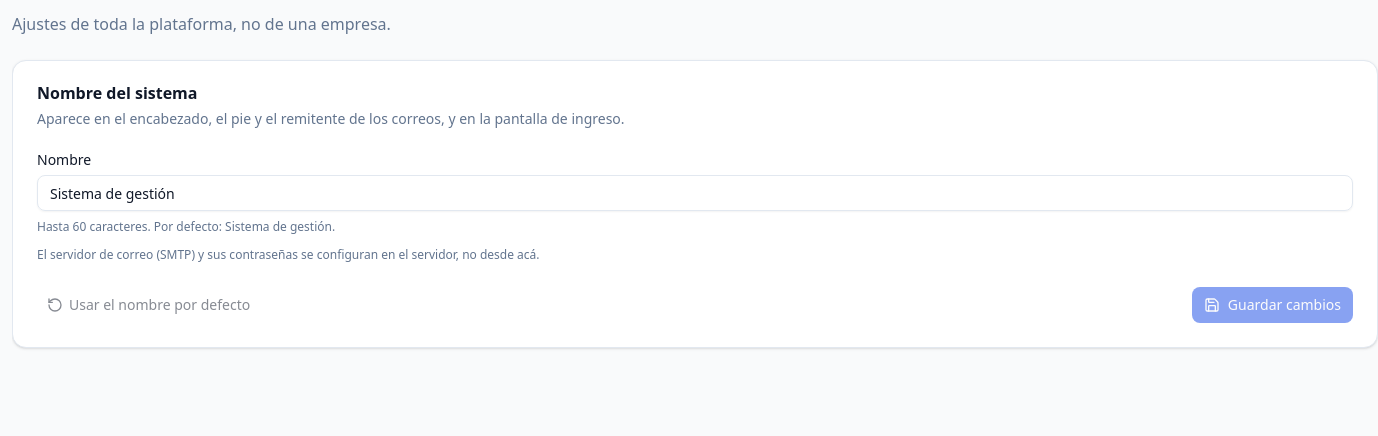
Sistema › guarda el nombre nuevo
The image size is (1378, 436).
Replace the text in the field labelled "Nombre" with "  Mi ERP ": [695, 193] box x1=37 y1=175 x2=1353 y2=211
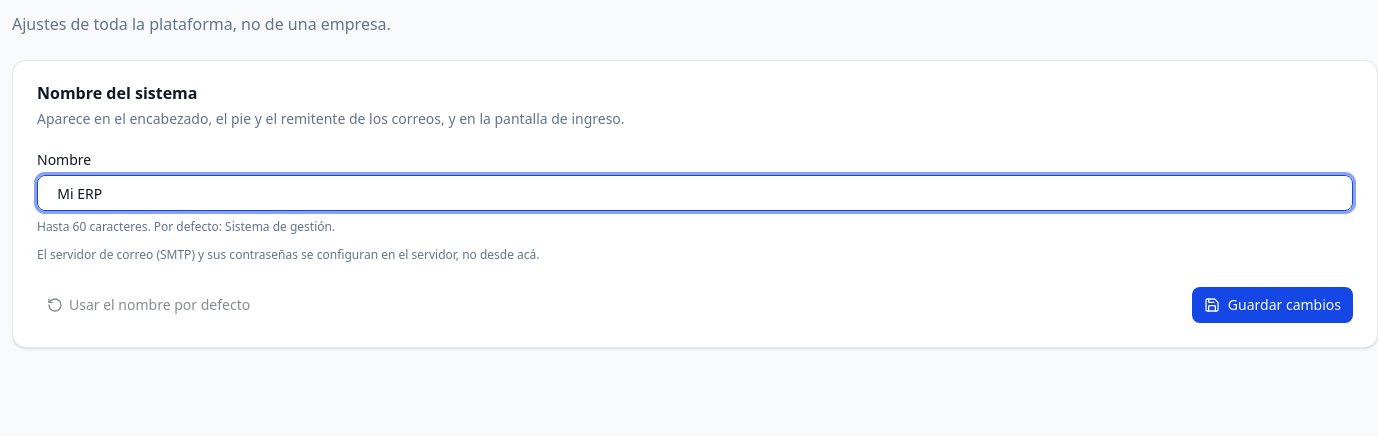
Click the button "Guardar cambios": [1272, 305] box x1=1192 y1=287 x2=1353 y2=323
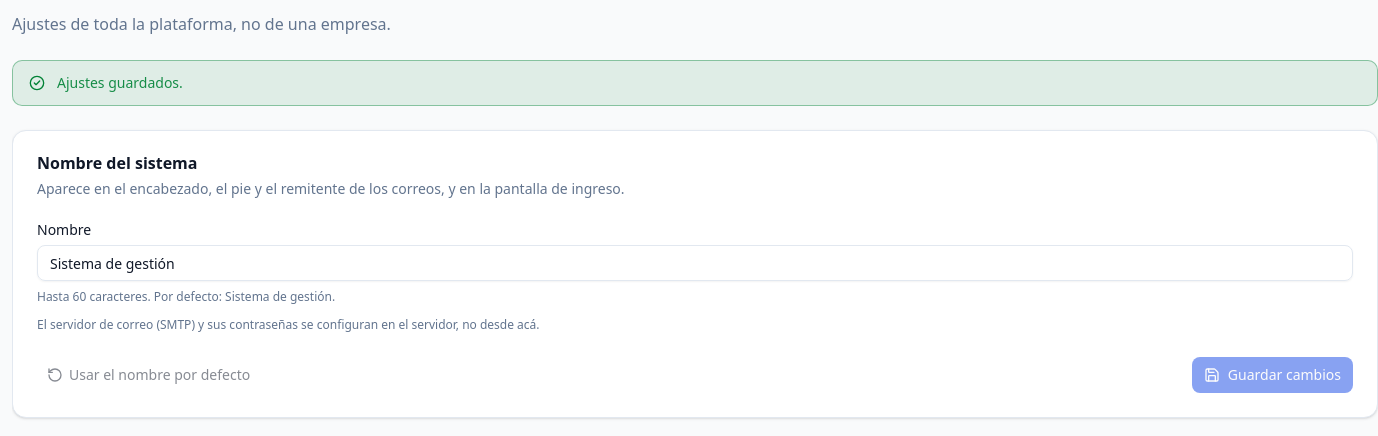
Now the text "Ajustes guardados." is shown, box x1=57 y1=73 x2=183 y2=92
